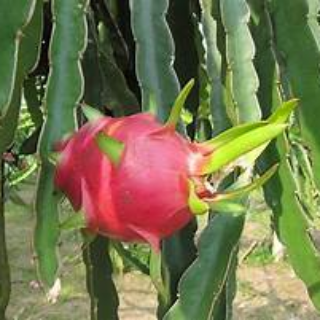thanh_long: (49, 99, 275, 252)
